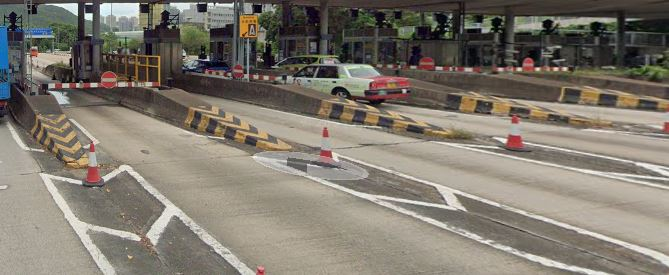Autotoll: (237, 14, 260, 37)
